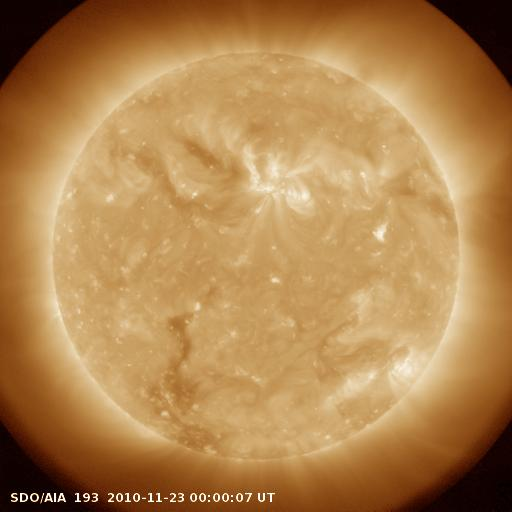coronal_hole: (148, 312, 228, 457), (175, 134, 242, 181)
